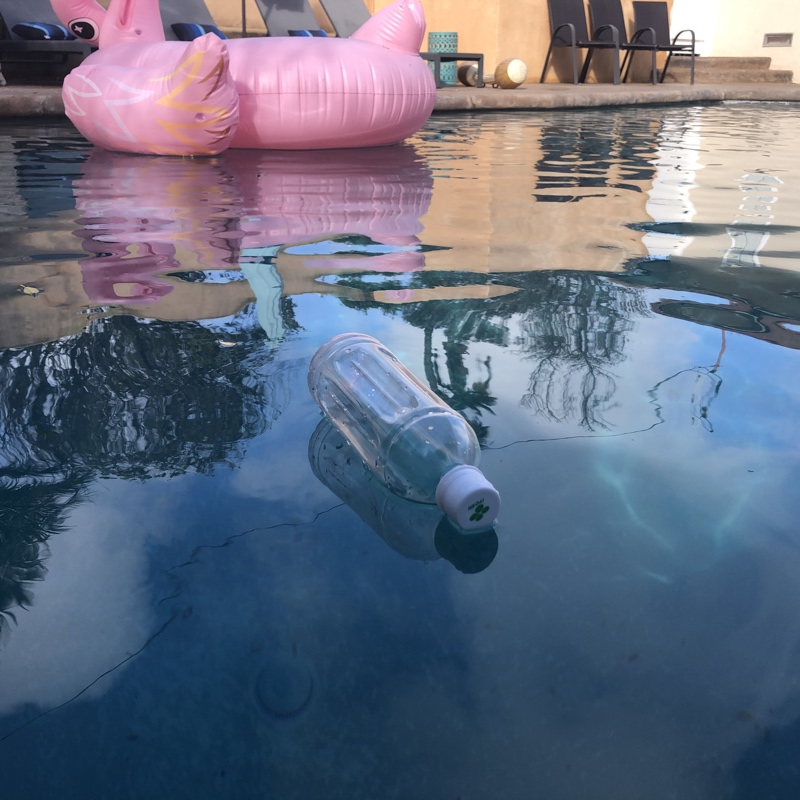Plastic Bottle: (304, 328, 506, 539)
